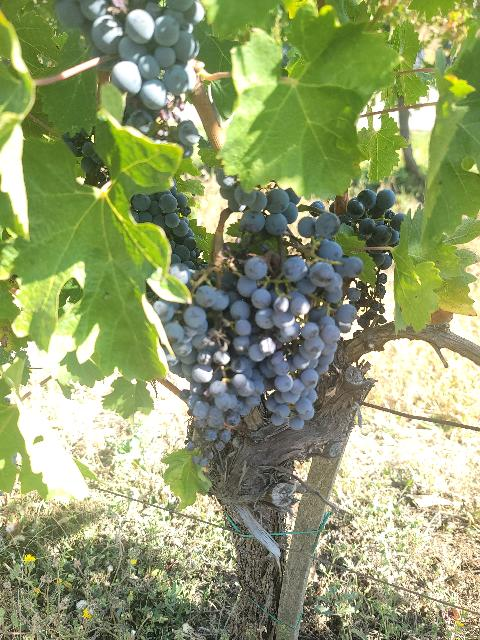grapes: (236, 256, 360, 356), (154, 285, 251, 366), (191, 350, 264, 450), (131, 185, 199, 264), (266, 351, 319, 429), (345, 190, 405, 246)
